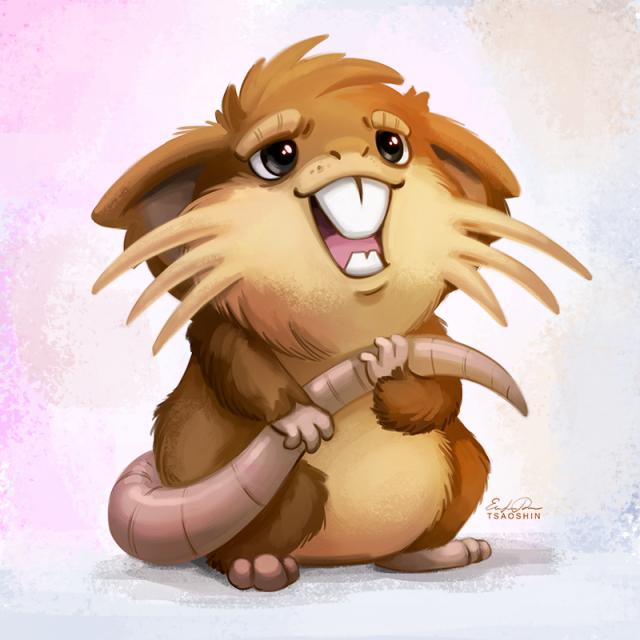Raticate: (116, 58, 515, 566)
